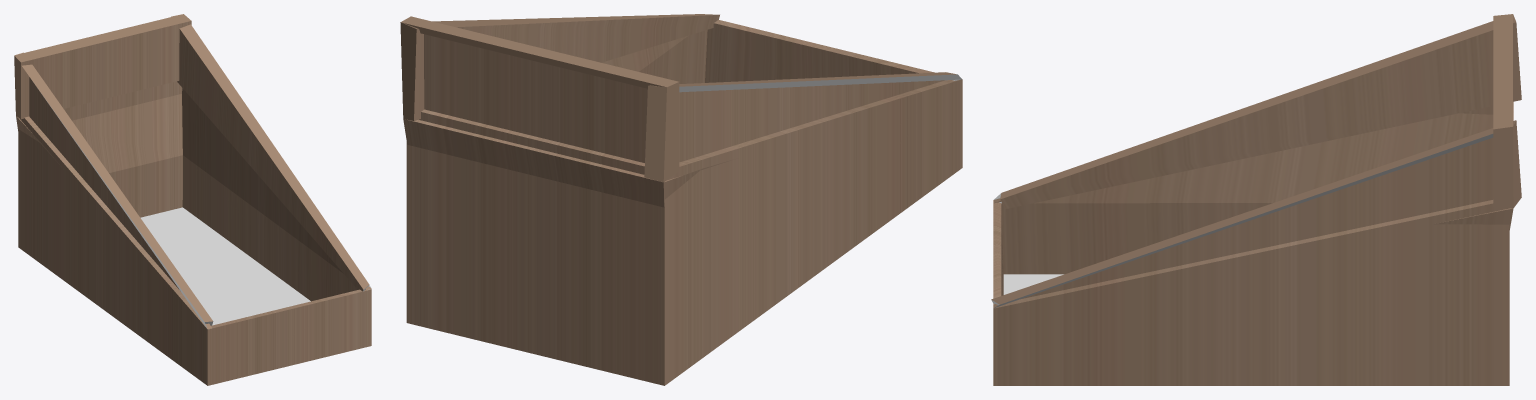
Rendered from VisitingCardHolder5.gltf.
3 renders of one model, left to right at view 1: azimuth 30°, elevation 25°; view 2: azimuth 150°, elevation 25°; view 3: azimuth 270°, elevation 25°, orthographic. The views are drawn at different scales.
Visible parts, largest first — view 1: Plane; view 2: Plane; view 3: Plane.
Boxes of the visible parts, x1,y1,x2,y2 form: Plane: [14, 14, 371, 385]; Plane: [400, 14, 962, 385]; Plane: [991, 14, 1521, 385].
Size of the model in its own units: 2.08 by 2.23 by 4.11.
6 materials, 5 textured.
